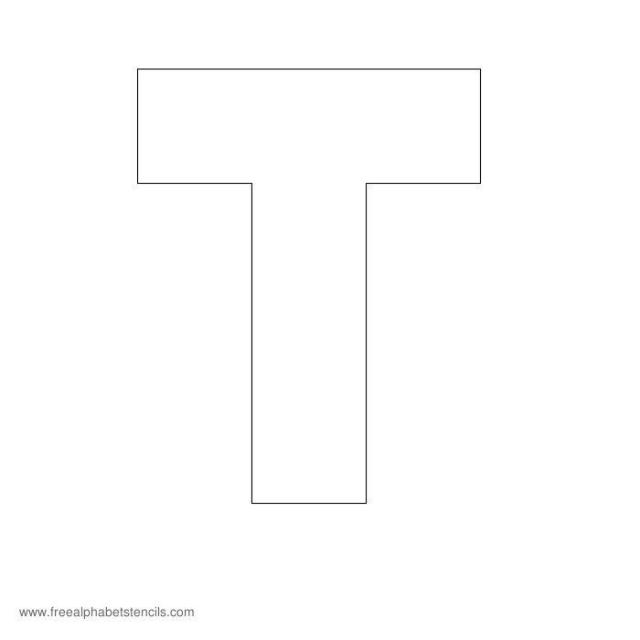T: (100, 35, 493, 540)
